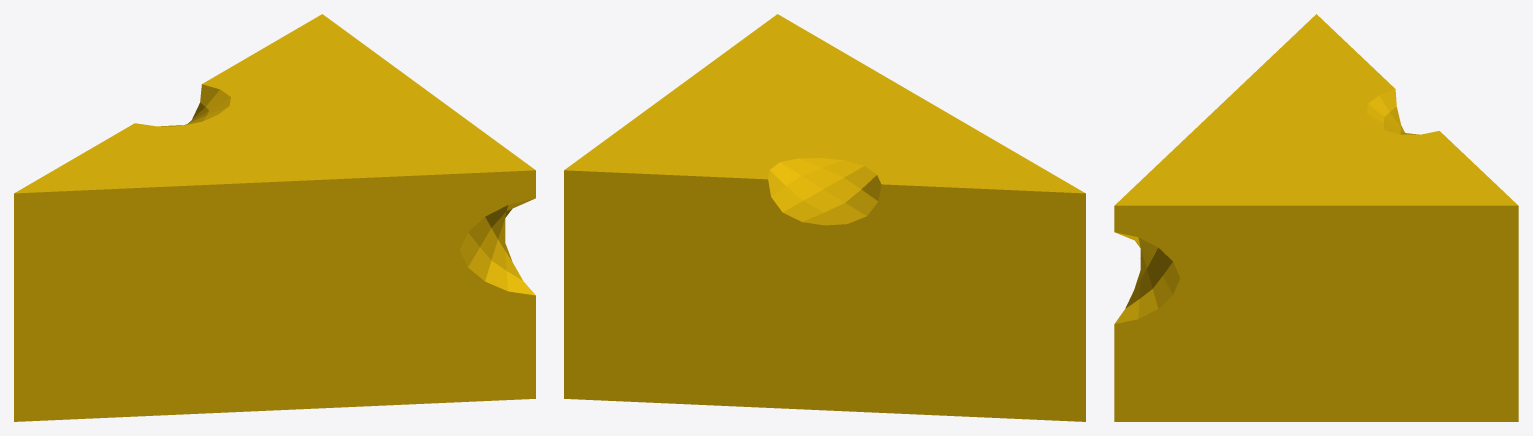
File: Cheese.fbx
3 views of the same model, side by side, from view 1: azimuth 30°, elevation 25°; view 2: azimuth 150°, elevation 25°; view 3: azimuth 270°, elevation 25° (orthographic). The views are drawn at different scales.
Parts seen in each view (by area): view 1: Cheese; view 2: Cheese; view 3: Cheese.
Boxes of the visible parts, bbox=[...] form: Cheese: bbox=[14, 14, 535, 421]; Cheese: bbox=[564, 14, 1085, 421]; Cheese: bbox=[1114, 14, 1518, 421].
Size of the model in its own units: 223 by 117 by 199.
